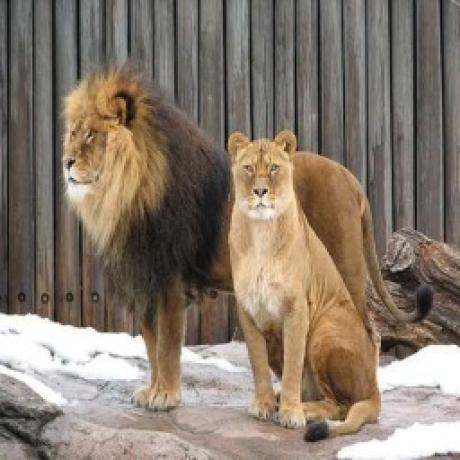Lion: (58, 67, 432, 413), (226, 129, 383, 441)
